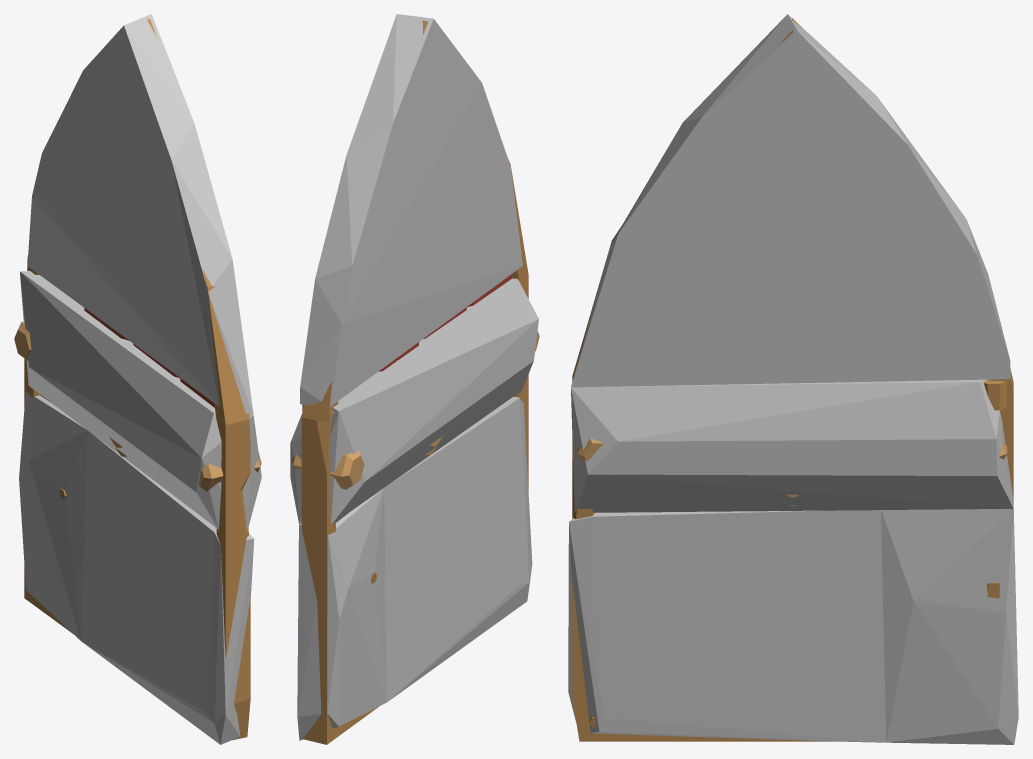
Rendered from SM_Bld_Door_02.fbx.
The picture shows the model from 3 angles, left to right: view 1: azimuth 30°, elevation 25°; view 2: azimuth 150°, elevation 25°; view 3: azimuth 270°, elevation 25°; orthographic projection. The views are drawn at different scales.
Visible parts, largest first — view 1: SM_Bld_Door_02_ConvexHulls, SM_Bld_Door_02; view 2: SM_Bld_Door_02_ConvexHulls, SM_Bld_Door_02; view 3: SM_Bld_Door_02_ConvexHulls, SM_Bld_Door_02.
Boxes of the visible parts, left/top/right/bottom form: SM_Bld_Door_02_ConvexHulls: left=19, top=14, right=261, bottom=744; SM_Bld_Door_02: left=14, top=19, right=261, bottom=740; SM_Bld_Door_02_ConvexHulls: left=290, top=14, right=538, bottom=740; SM_Bld_Door_02: left=291, top=20, right=539, bottom=744; SM_Bld_Door_02_ConvexHulls: left=568, top=14, right=1018, bottom=744; SM_Bld_Door_02: left=572, top=18, right=1013, bottom=741.
Size of the model in its own units: 25.27 by 147 by 257.
Materials: 2 (1 with a texture image).
